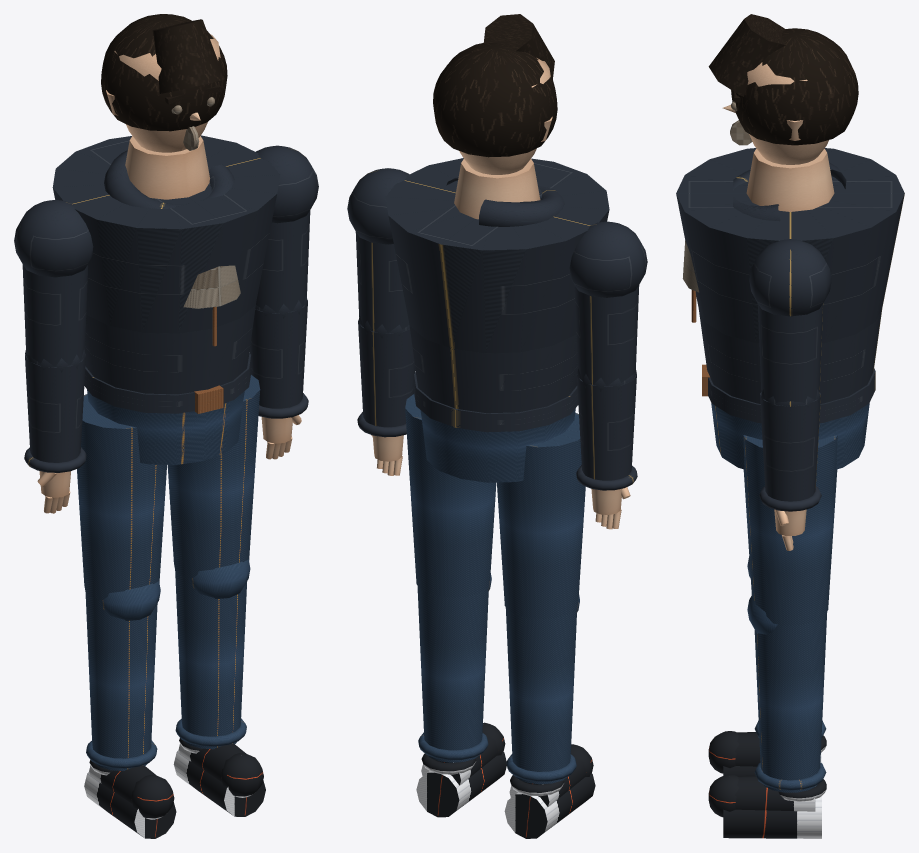
File: personaje_humano.obj
3 renders of one model, left to right at view 1: azimuth 30°, elevation 25°; view 2: azimuth 150°, elevation 25°; view 3: azimuth 270°, elevation 25°, orthographic.
Visible parts, largest first — view 1: Pecho_Chaqueta, Mesh_3917, Mesh_4961, Cintura_Chaqueta, Mesh_4189, Mesh_5233, Peinado_Moderno, Cadera_Jeans, Mesh_2317, Mesh_2505, Mesh_3413, Mesh_2101 (+23 smaller); view 2: Pecho_Chaqueta, Mesh_3917, Peinado_Moderno, Mesh_4961, Mesh_5233, Mesh_4189, Cintura_Chaqueta, Cadera_Jeans, Mesh_2317, Mesh_2505, Mesh_3413, Mesh_2101 (+18 smaller); view 3: Pecho_Chaqueta, Mesh_4961, Mesh_5233, Peinado_Moderno, Cintura_Chaqueta, Mesh_3225, Mesh_3413, Mesh_3009, Cuello, Cadera_Jeans, Mesh_2069, Mesh_5733 (+13 smaller).
Part boxes in pixels (box(x1,y1,x2,y2)): Pecho_Chaqueta: box(52, 135, 279, 333); Mesh_3917: box(77, 394, 166, 600); Mesh_4961: box(167, 375, 260, 578); Cintura_Chaqueta: box(85, 304, 255, 394); Mesh_4189: box(85, 592, 157, 770); Mesh_5233: box(175, 570, 246, 749); Peinado_Moderno: box(101, 14, 227, 131); Cadera_Jeans: box(87, 389, 244, 464); Mesh_2317: box(22, 264, 88, 366); Mesh_2505: box(25, 354, 85, 462); Mesh_3413: box(249, 300, 307, 408); Mesh_2101: box(14, 200, 93, 277); Pecho_Chaqueta: box(385, 158, 609, 353); Mesh_3917: box(497, 412, 585, 619); Peinado_Moderno: box(433, 43, 557, 157); Mesh_4961: box(405, 394, 496, 597); Mesh_5233: box(417, 585, 488, 762); Mesh_4189: box(505, 607, 576, 784); Cintura_Chaqueta: box(409, 324, 577, 413); Cadera_Jeans: box(420, 408, 575, 482); Mesh_2317: box(574, 285, 639, 385); Mesh_2505: box(576, 374, 636, 480); Mesh_3413: box(358, 320, 415, 427); Mesh_2101: box(569, 221, 647, 297); Pecho_Chaqueta: box(676, 148, 904, 343); Mesh_4961: box(743, 435, 837, 625); Mesh_5233: box(754, 612, 827, 792); Peinado_Moderno: box(731, 28, 858, 145); Cintura_Chaqueta: box(698, 308, 882, 403); Mesh_3225: box(757, 303, 823, 402); Mesh_3413: box(760, 392, 820, 501); Mesh_3009: box(749, 239, 831, 316); Cuello: box(746, 149, 834, 211); Cadera_Jeans: box(711, 403, 869, 469); Mesh_2069: box(708, 14, 785, 96); Mesh_5733: box(723, 796, 821, 838).
Bounding box in the file's own units: 0.754 × 1.96 × 0.51.
Materials: 11 (11 with a texture image).
